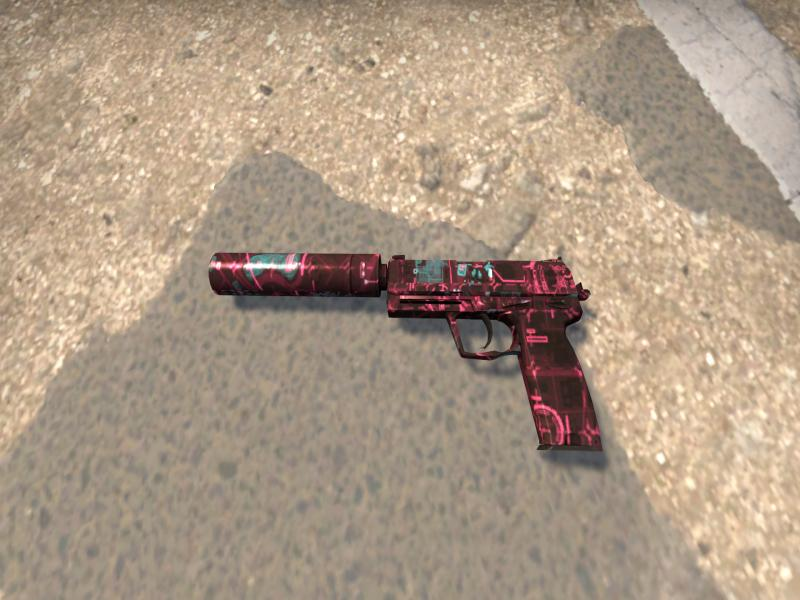USP: (208, 251, 603, 451)
